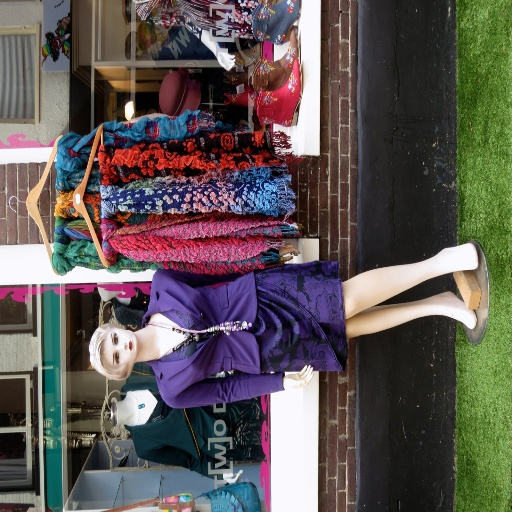hand: (281, 363, 313, 388), (278, 241, 301, 264)
